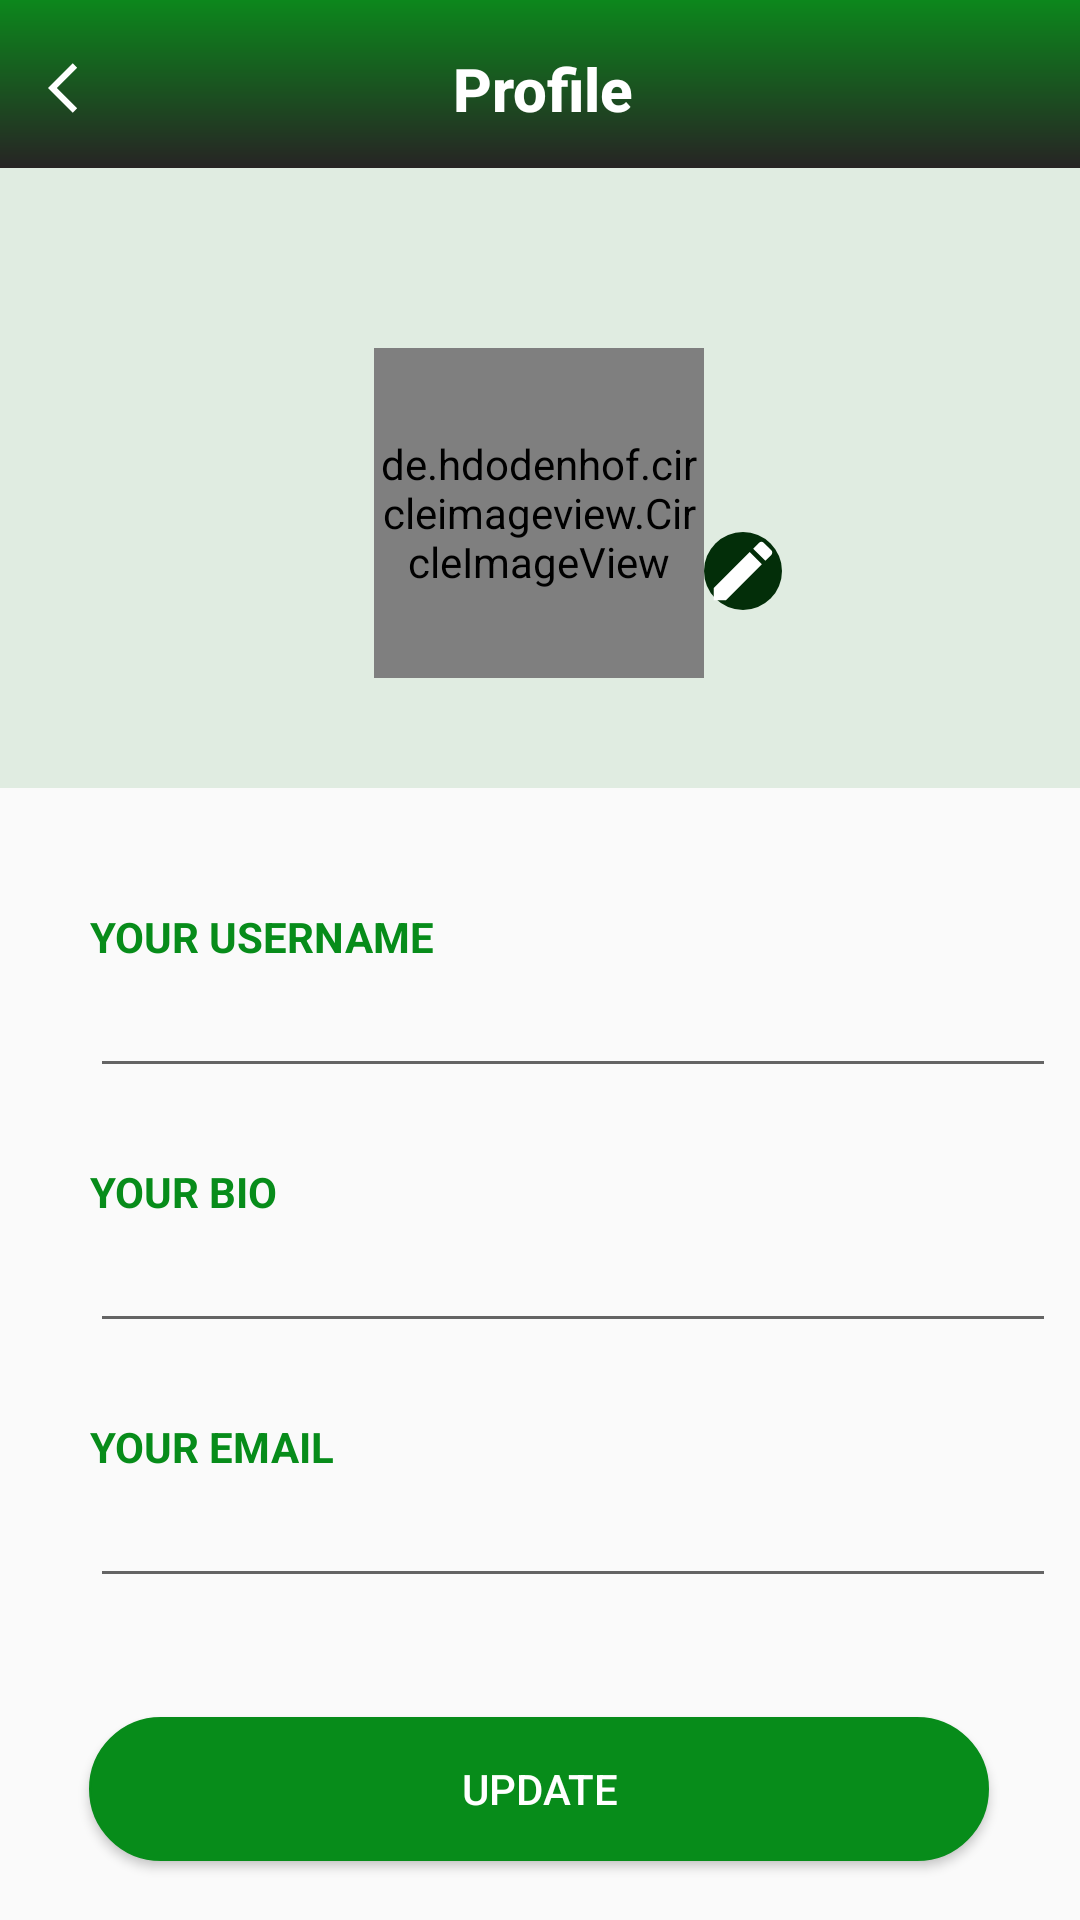

Point at icon controls on the screen. Image size 1080×1920, points as point (x, y).
back: point (78, 88)
edit: point (743, 571)
